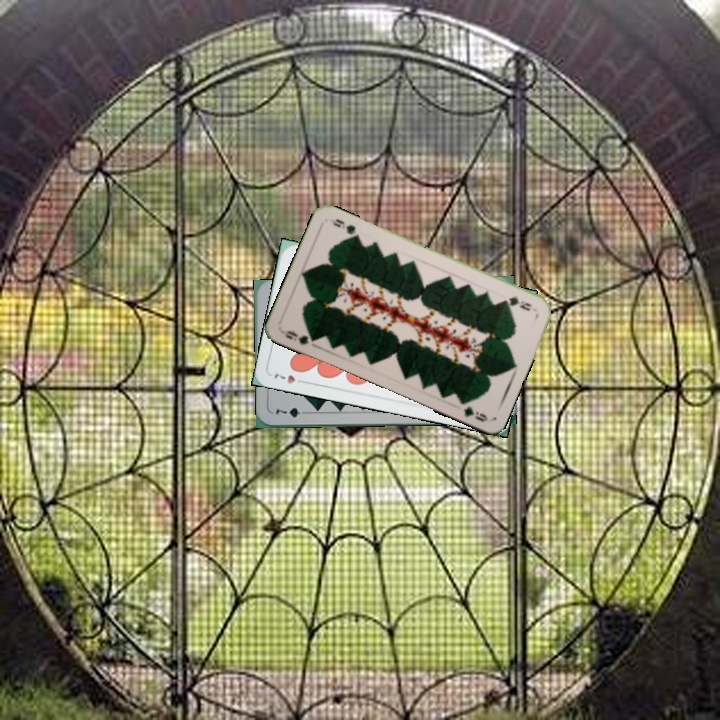G7: (272, 404, 311, 420)
G9: (278, 326, 319, 347), (497, 291, 534, 314)
H7: (270, 369, 309, 386)
